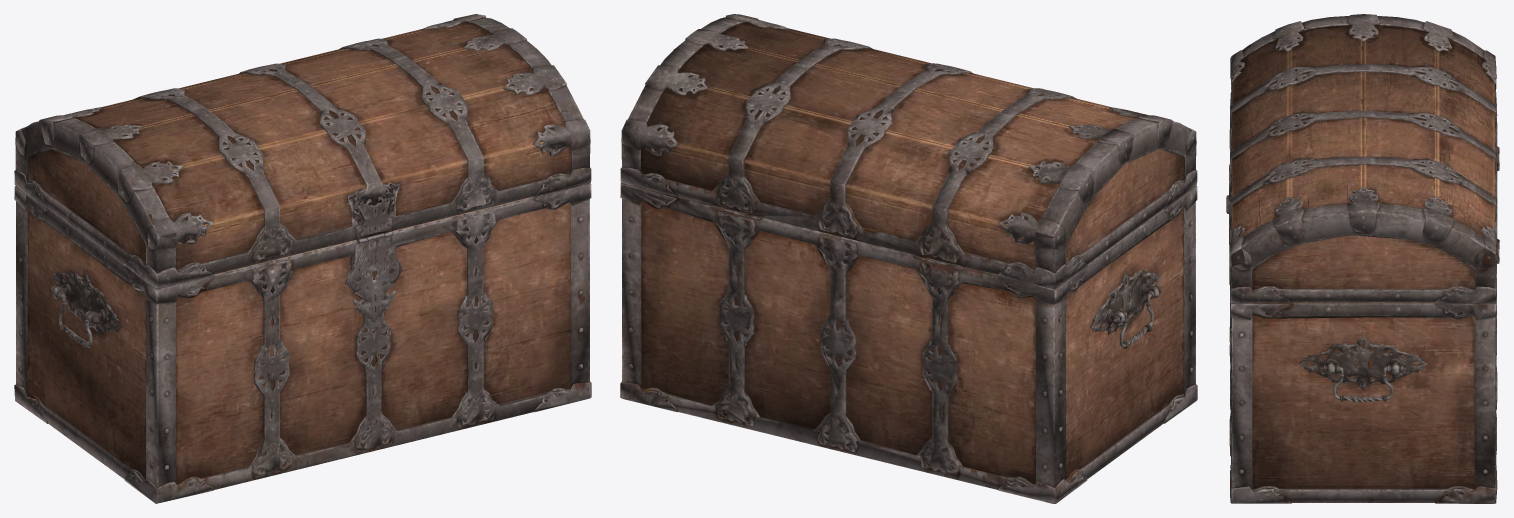
Rendered from treasure_chest.glb.
3 views of the same model, side by side, from view 1: azimuth 30°, elevation 25°; view 2: azimuth 150°, elevation 25°; view 3: azimuth 270°, elevation 25° (orthographic). The views are drawn at different scales.
Parts seen in each view (by area): view 1: treasure_chest_bottom, treasure_chest_lid, treasure_chest_lock, treasure_chest_handle_left; view 2: treasure_chest_bottom, treasure_chest_lid, treasure_chest_handle_left; view 3: treasure_chest_lid, treasure_chest_bottom, treasure_chest_handle_right.
Boxes of the visible parts, x1=… form: treasure_chest_bottom: x1=14, y1=183, x2=591, y2=503; treasure_chest_lid: x1=14, y1=14, x2=591, y2=288; treasure_chest_lock: x1=349, y1=233, x2=399, y2=322; treasure_chest_handle_left: x1=50, y1=285, x2=100, y2=348; treasure_chest_bottom: x1=620, y1=183, x2=1197, y2=503; treasure_chest_lid: x1=620, y1=14, x2=1197, y2=288; treasure_chest_handle_left: x1=1112, y1=285, x2=1161, y2=348; treasure_chest_lid: x1=1226, y1=14, x2=1499, y2=302; treasure_chest_bottom: x1=1229, y1=131, x2=1499, y2=503; treasure_chest_handle_right: x1=1320, y1=365, x2=1406, y2=402.
Size of the model in its own units: 0.959 by 0.618 by 0.5223.
Materials: 1 (1 with a texture image).
